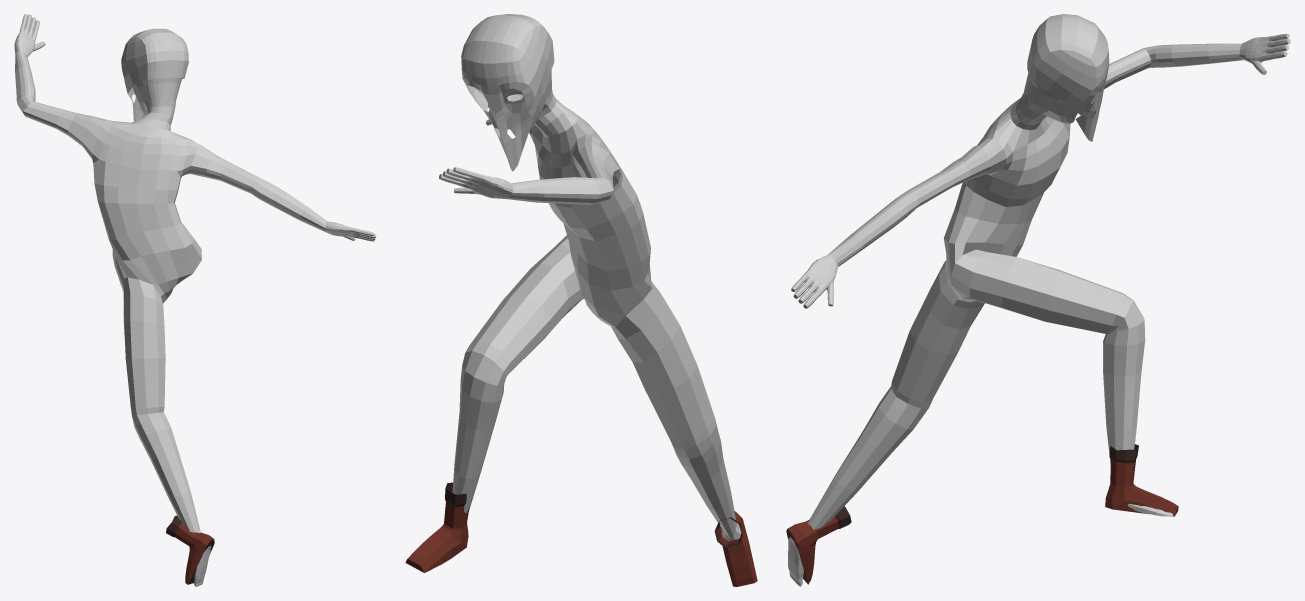
Rendered from saltoadelante_000110.obj.
3 views of the same model, side by side, from view 1: azimuth 30°, elevation 25°; view 2: azimuth 150°, elevation 25°; view 3: azimuth 270°, elevation 25° (orthographic). The views are drawn at different scales.
Visible parts, largest first — view 1: Plane.002_Plane.001, Plane.004; view 2: Plane.002_Plane.001, Plane.003, Plane.004; view 3: Plane.002_Plane.001, Plane.003, Plane.004.
Part boxes in pixels (x1,y1,x2,y2): Plane.002_Plane.001: (14, 14, 376, 586); Plane.004: (166, 515, 214, 584); Plane.002_Plane.001: (406, 14, 741, 560); Plane.003: (405, 482, 472, 572); Plane.004: (714, 511, 757, 586); Plane.002_Plane.001: (788, 14, 1290, 586); Plane.003: (1105, 444, 1178, 516); Plane.004: (786, 506, 851, 584).
Bounding box in the file's own units: 3.44 × 6.85 × 5.19.
